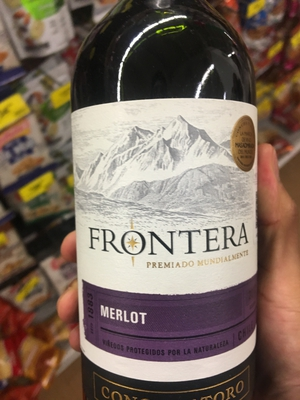frontera merlot: (69, 10, 286, 397)
